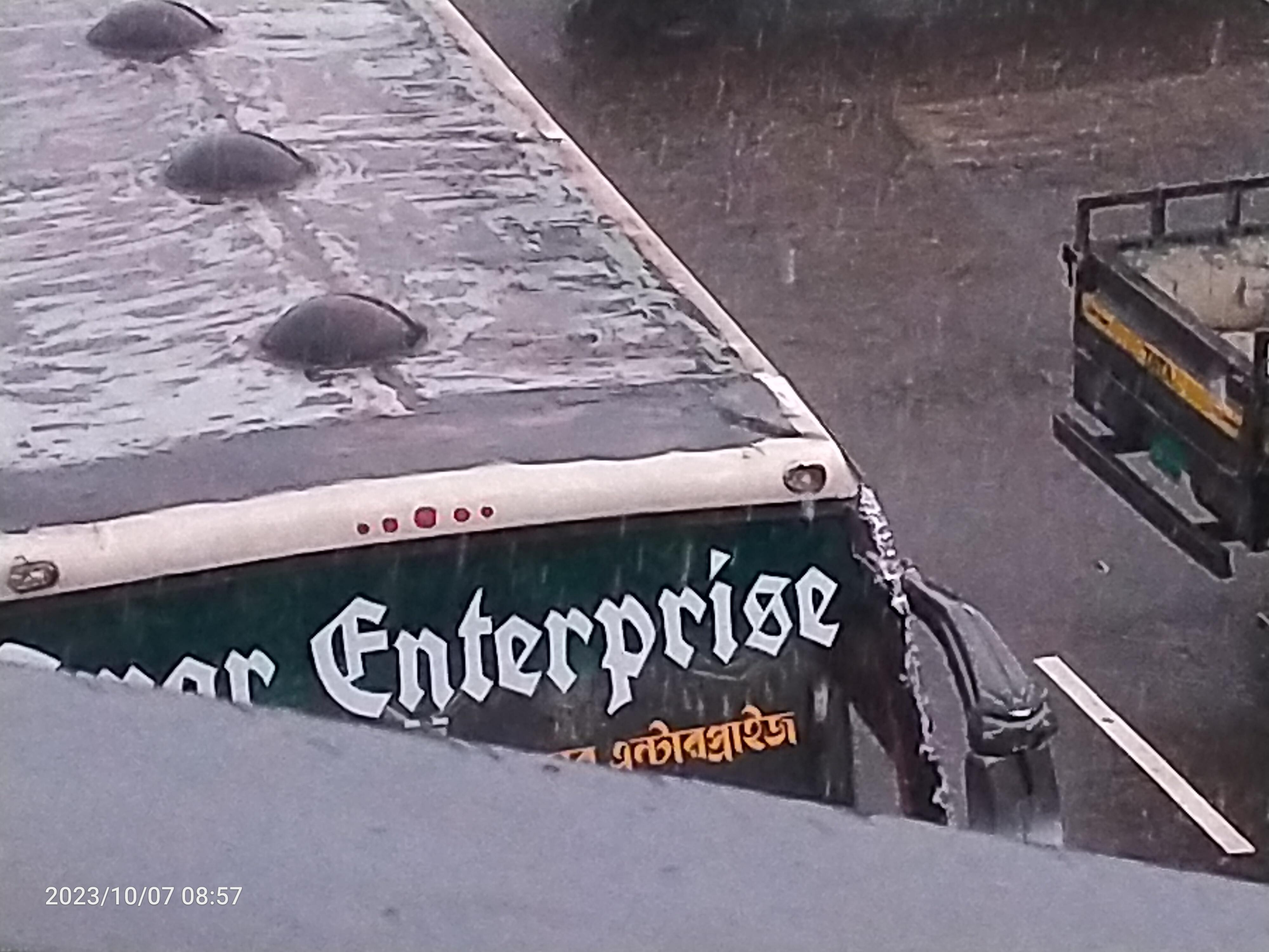Bus: (0, 0, 1044, 896)
Truck: (1008, 131, 1269, 601)
